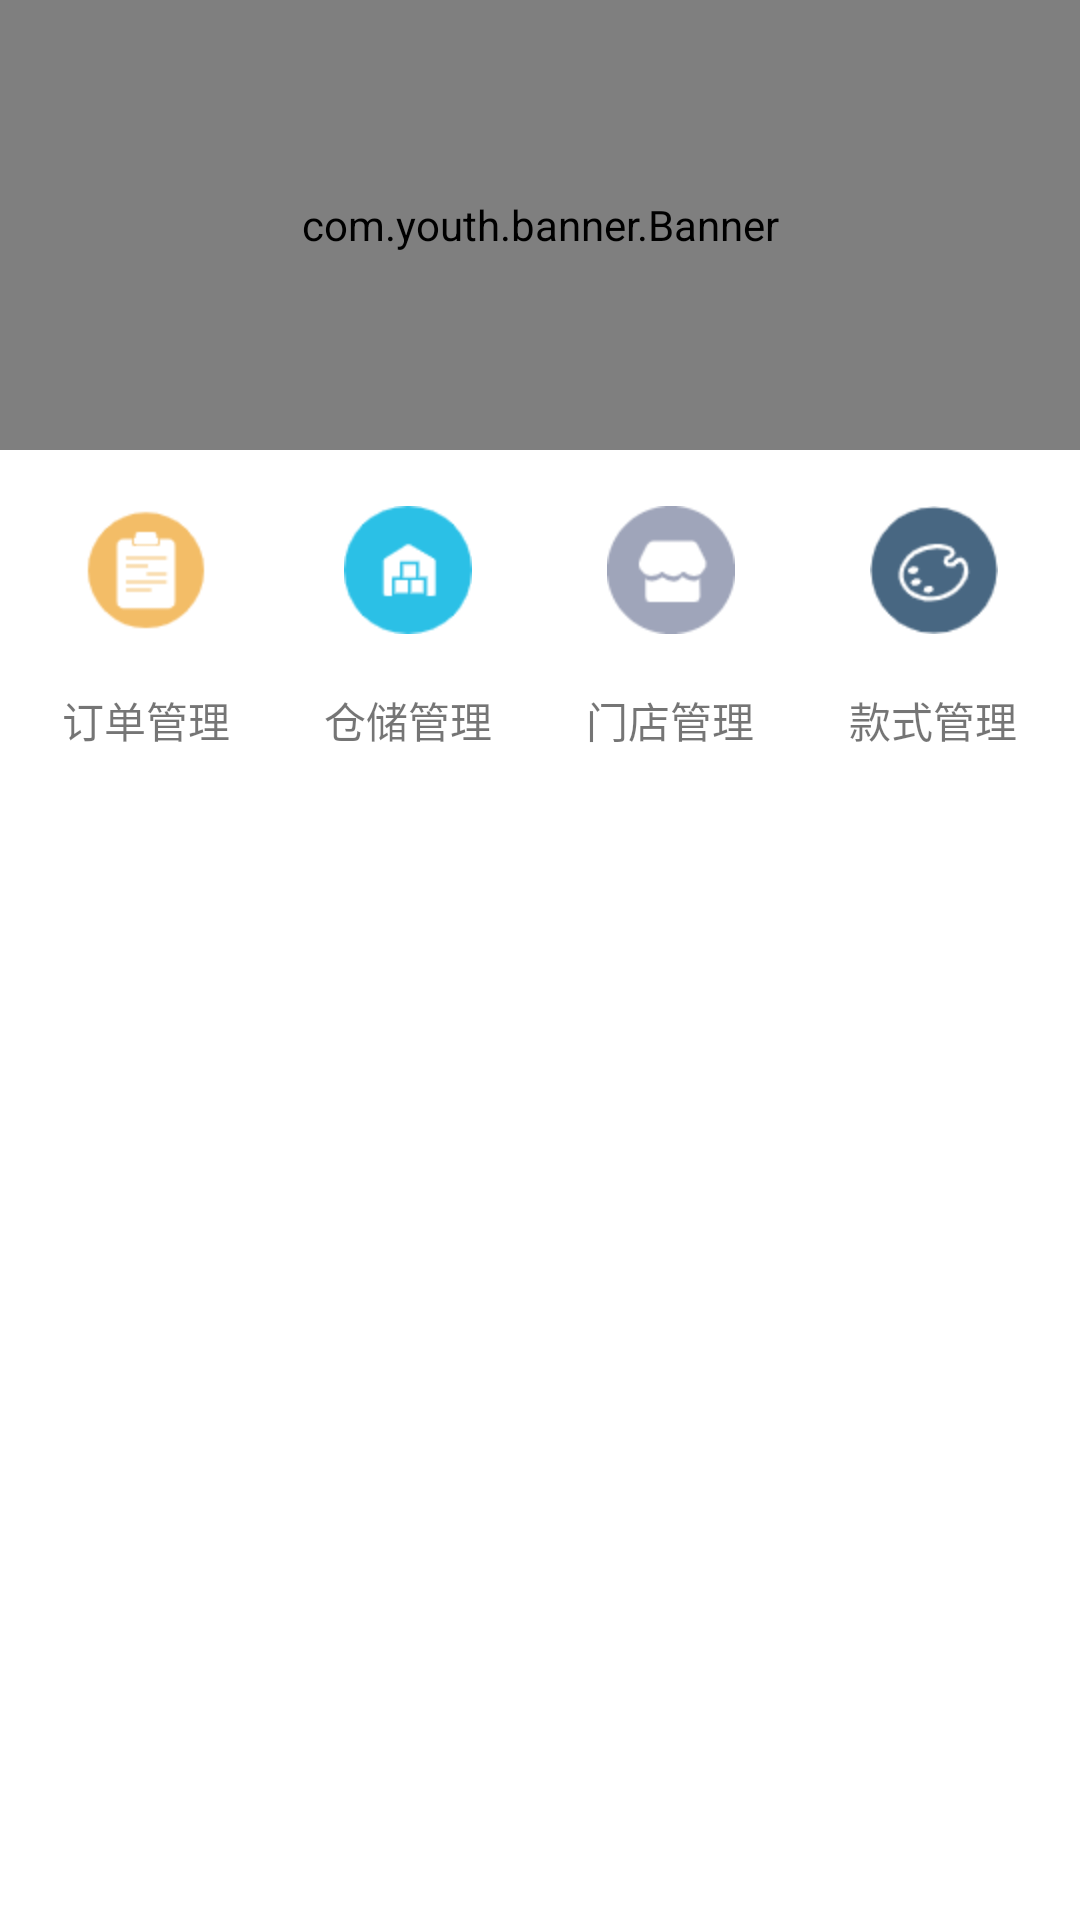

Locate icon controls on the screen. Image size 1080×1920, boxes as region(x1, y1, x2, y2).
order: region(87, 511, 205, 629)
shop: region(607, 506, 735, 634)
storage: region(344, 506, 472, 634)
style: region(870, 506, 998, 634)
